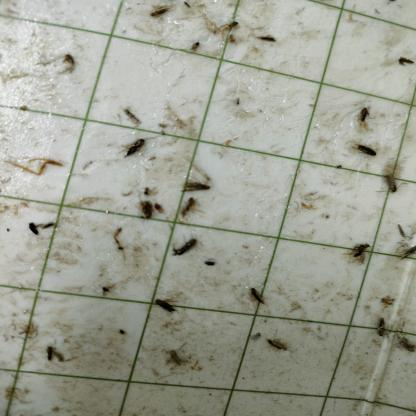prays_oleae: (382, 164, 404, 217), (245, 282, 270, 314), (167, 343, 189, 376), (347, 240, 371, 269), (152, 292, 178, 318), (396, 331, 414, 368), (119, 103, 142, 131), (177, 194, 198, 224), (266, 331, 287, 360), (356, 135, 378, 162), (178, 178, 212, 195), (122, 138, 148, 160), (397, 43, 414, 76), (376, 311, 392, 346), (250, 27, 276, 48), (45, 345, 66, 370), (170, 237, 194, 258), (355, 102, 371, 132), (396, 244, 416, 267), (25, 215, 42, 241), (395, 221, 410, 245), (378, 291, 396, 310), (42, 215, 59, 235), (150, 197, 166, 217), (186, 42, 204, 55)
